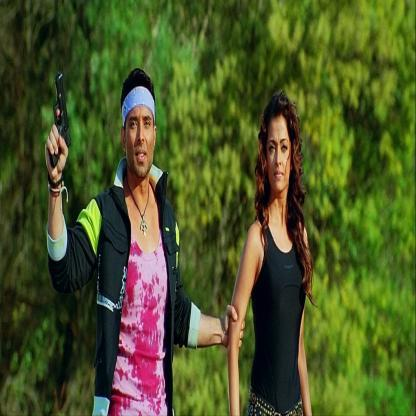gun: (44, 57, 77, 201)
